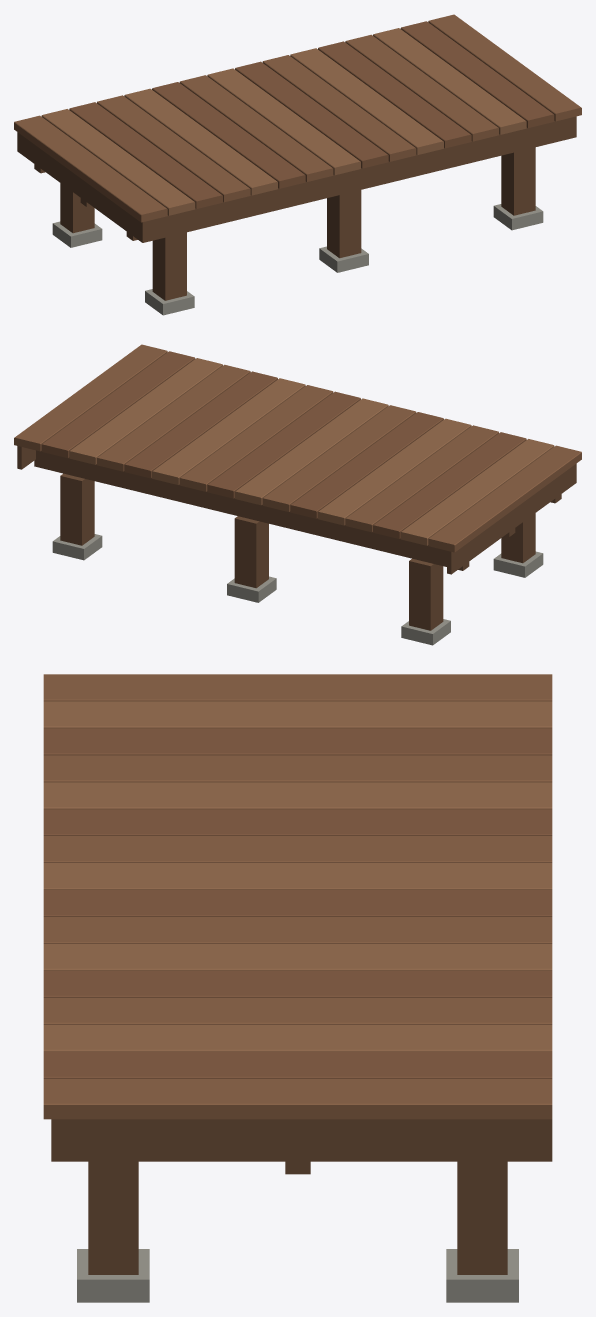
The model's file is original-deck-1820.glb.
3 views of the same model, one above another, from view 1: azimuth 30°, elevation 25°; view 2: azimuth 150°, elevation 25°; view 3: azimuth 270°, elevation 25° (orthographic). The views are drawn at different scales.
Visible parts, largest first — view 1: original-deck-1820; view 2: original-deck-1820; view 3: original-deck-1820.
Boxes of the visible parts, x1,y1,x2,y2 form: original-deck-1820: [14, 14, 581, 315]; original-deck-1820: [14, 344, 581, 645]; original-deck-1820: [43, 674, 552, 1302].
Bounding box in the file's own units: 1.82 × 0.45 × 0.91.
